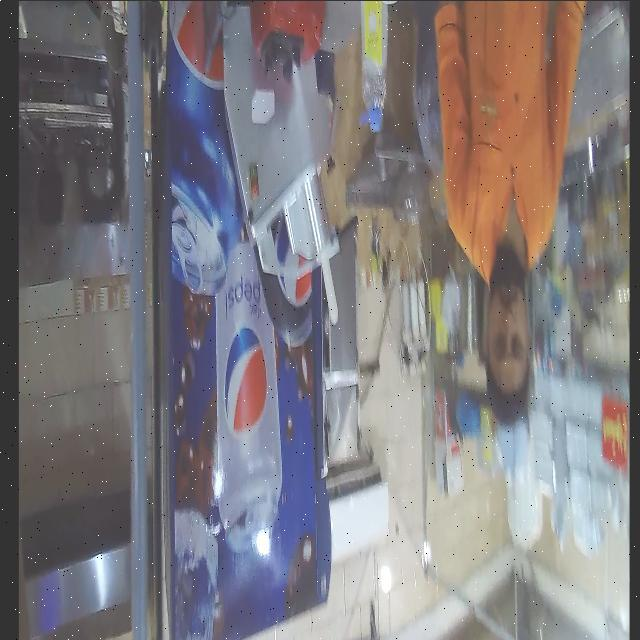face_no_mask: (483, 253, 532, 389)
